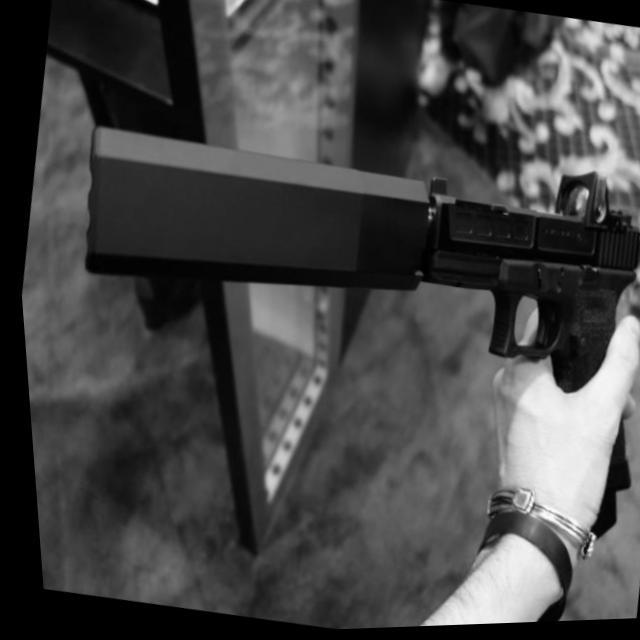weapon: (25, 83, 640, 572)
